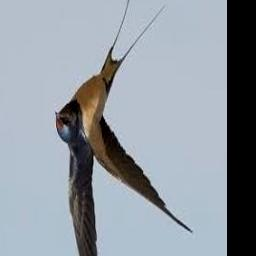Swallow: (55, 0, 194, 256)
